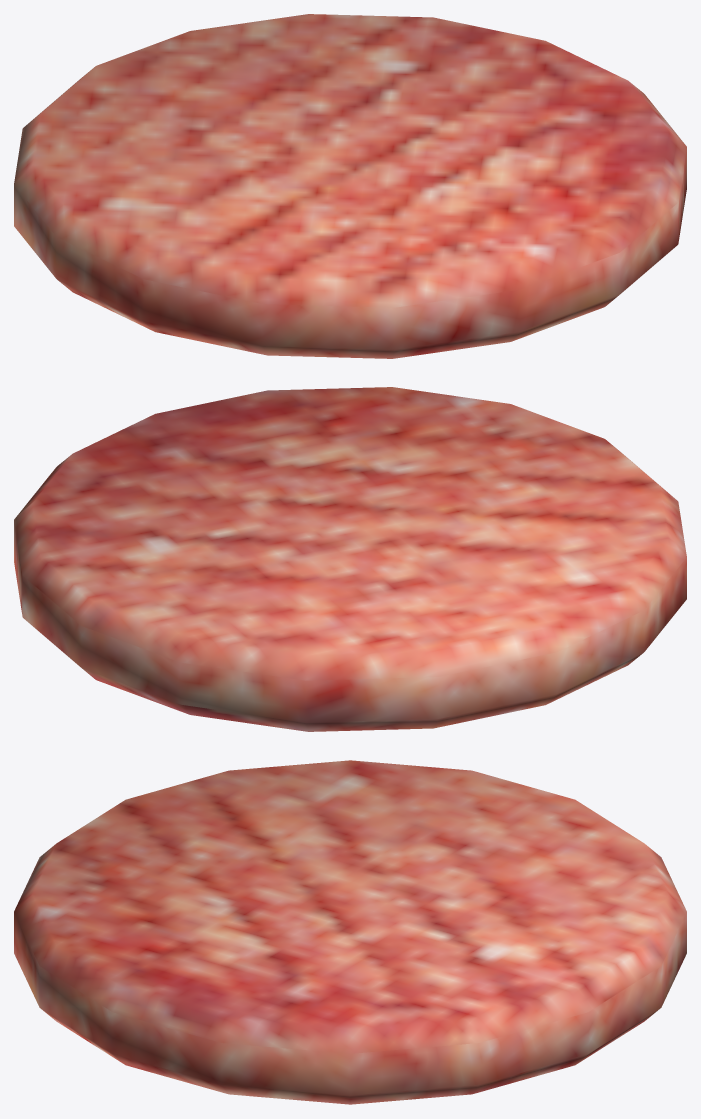
File: raw_cutlet.fbx
3 renders of one model, top to bottom at view 1: azimuth 30°, elevation 25°; view 2: azimuth 150°, elevation 25°; view 3: azimuth 270°, elevation 25°, orthographic.
Parts seen in each view (by area): view 1: raw_cutlet; view 2: raw_cutlet; view 3: raw_cutlet.
Part boxes in pixels (x1=…): raw_cutlet: x1=14, y1=14, x2=686, y2=358; raw_cutlet: x1=14, y1=387, x2=686, y2=731; raw_cutlet: x1=14, y1=760, x2=686, y2=1104.
Bounding box in the file's own units: 11.63 × 1.44 × 11.63.
Materials: 1 (1 with a texture image).
